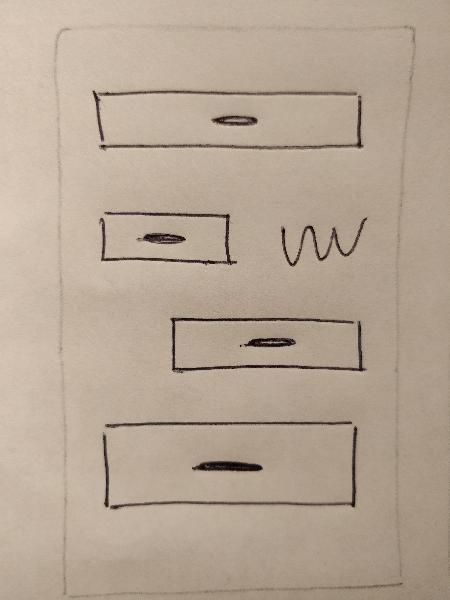button: (95, 414, 365, 521), (86, 79, 367, 159), (167, 308, 371, 384), (89, 201, 245, 277)
text: (273, 212, 370, 270)
